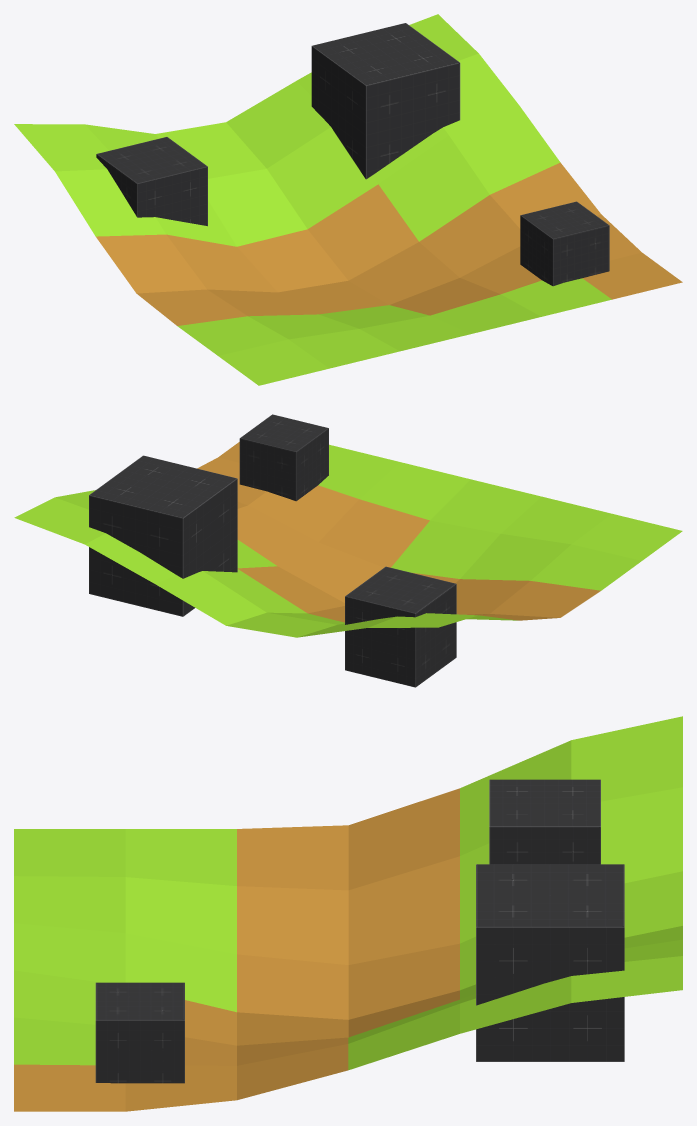
Rendered from test_level.gltf.
The picture shows the model from 3 angles, top to bottom: view 1: azimuth 30°, elevation 25°; view 2: azimuth 150°, elevation 25°; view 3: azimuth 270°, elevation 25°; orthographic projection. The views are drawn at different scales.
Parts seen in each view (by area): view 1: ground, box_offset, box_center, box_copy; view 2: ground, box_offset, box_center, box_copy; view 3: ground, box_offset, box_center, box_copy.
Boxes of the visible parts, <box> form: ground: <box>14,14,682,385</box>; box_offset: <box>311,23,460,179</box>; box_center: <box>96,137,207,226</box>; box_copy: <box>520,201,609,286</box>; ground: <box>14,442,682,637</box>; box_offset: <box>89,455,237,616</box>; box_center: <box>345,566,456,687</box>; box_copy: <box>239,414,328,501</box>; ground: <box>14,716,682,1111</box>; box_offset: <box>476,864,624,1061</box>; box_center: <box>489,779,600,864</box>; box_copy: <box>95,982,184,1083</box>.
Bounding box in the file's own units: 9 × 2.94 × 9.
Materials: 3 (1 with a texture image).
